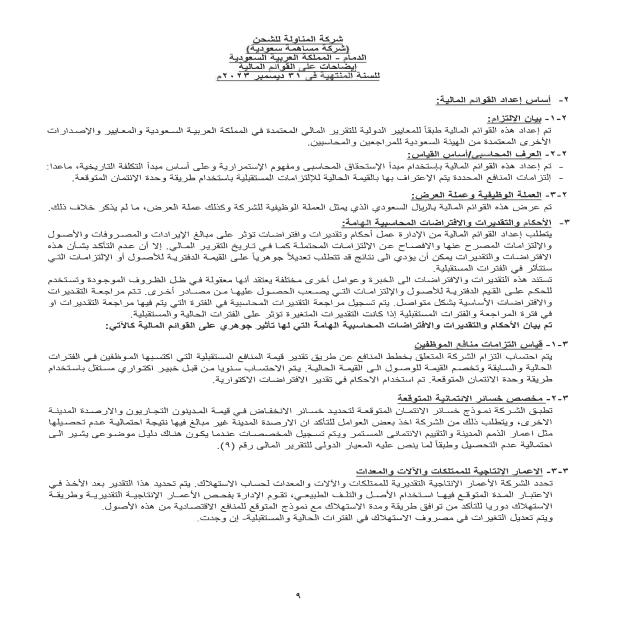notes: (236, 64, 362, 72)
text: (43, 91, 581, 545)
